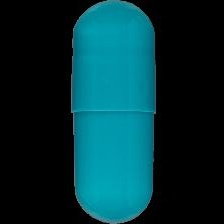53808-0419: (0, 0, 224, 224)
